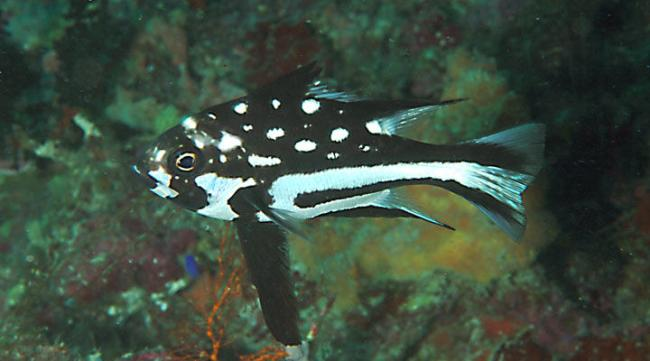fish: (133, 60, 548, 349)
